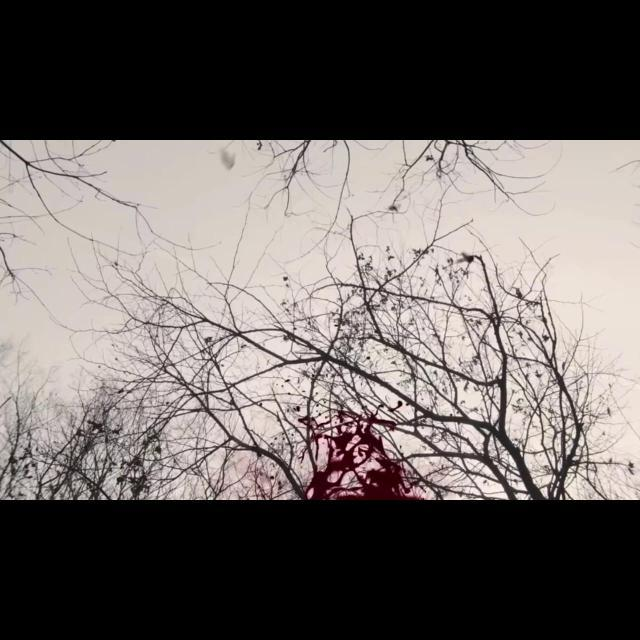blood: (306, 411, 422, 500)
